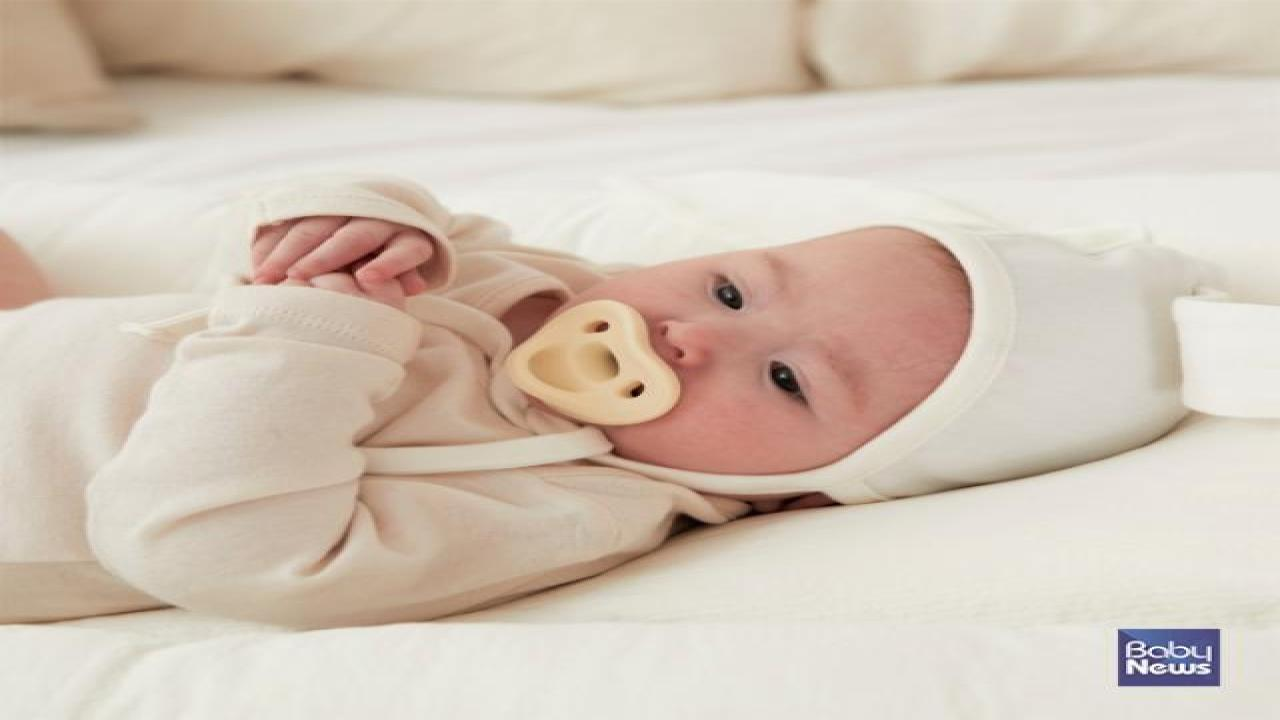hand: (247, 216, 442, 278)
